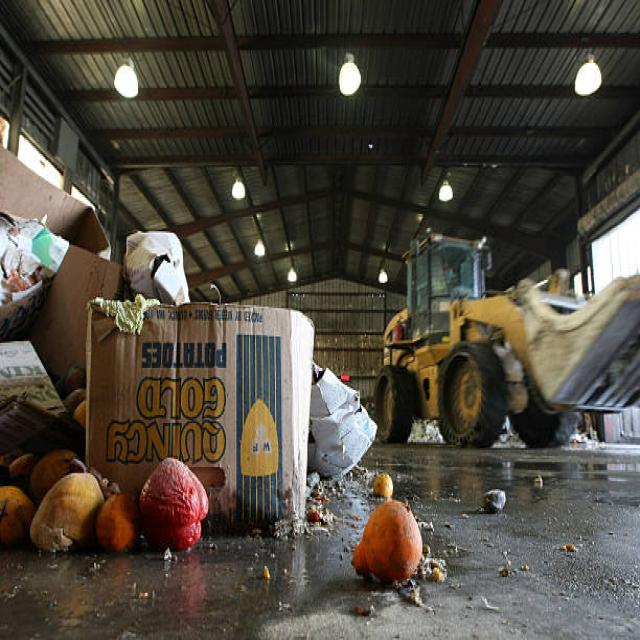cardboard: (80, 293, 310, 478), (4, 154, 186, 289), (1, 308, 77, 439), (315, 368, 369, 464)
